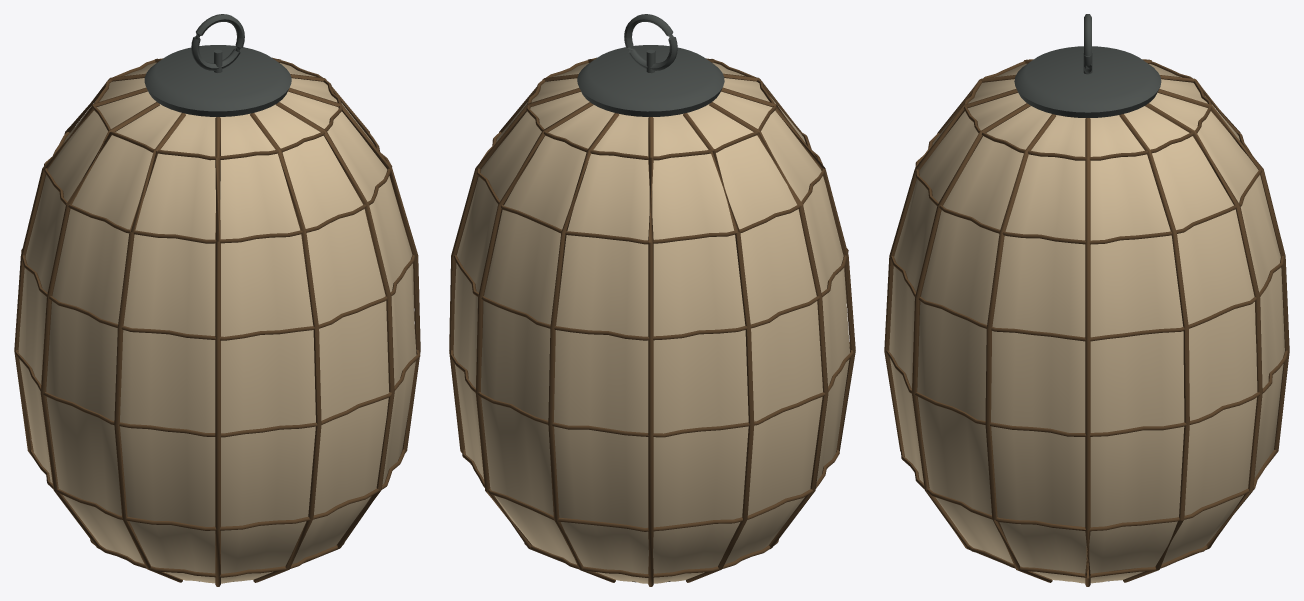
The model's file is paper-lantern.fbx.
3 renders of one model, left to right at view 1: azimuth 30°, elevation 25°; view 2: azimuth 150°, elevation 25°; view 3: azimuth 270°, elevation 25°, orthographic.
Visible parts, largest first — view 1: paper-lantern; view 2: paper-lantern; view 3: paper-lantern.
Part boxes in pixels (x1=…): paper-lantern: x1=14, y1=14, x2=420, y2=586; paper-lantern: x1=449, y1=14, x2=855, y2=586; paper-lantern: x1=884, y1=14, x2=1289, y2=586.
Size of the model in its own units: 36.88 by 54.1 by 36.95.
